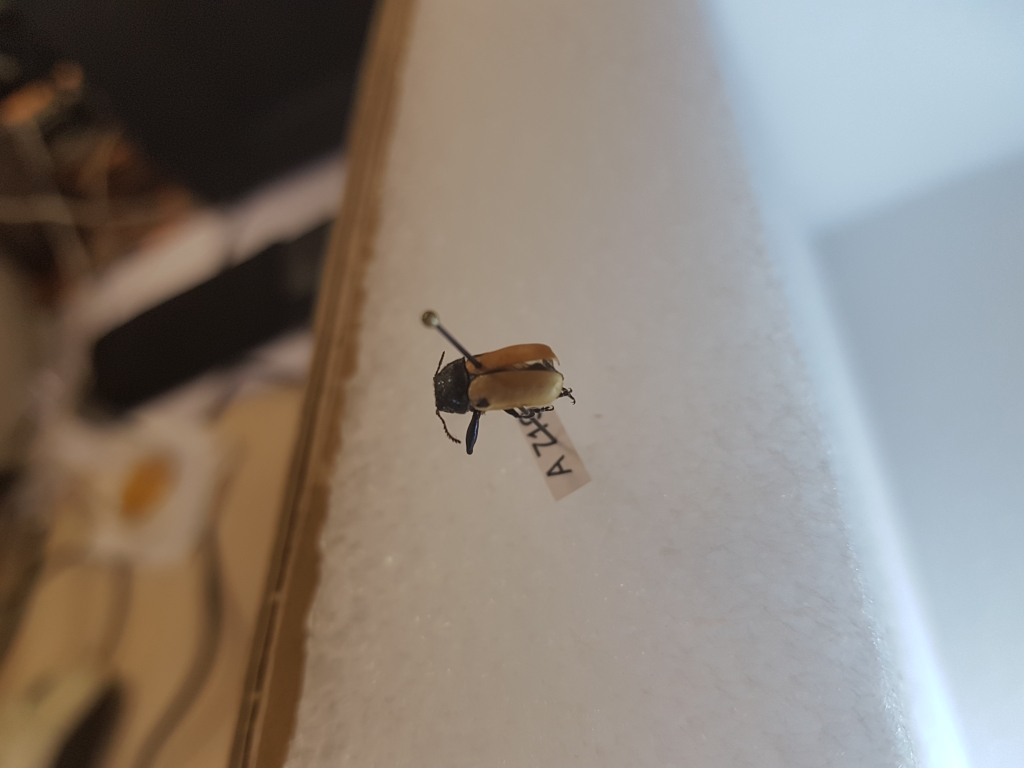Labidostomis_propinqua: (413, 341, 620, 462)
